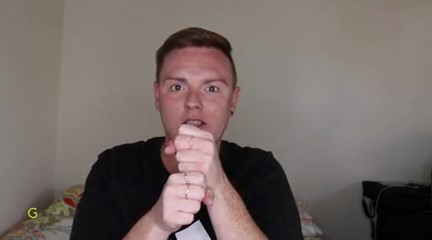G: (144, 117, 229, 233)
